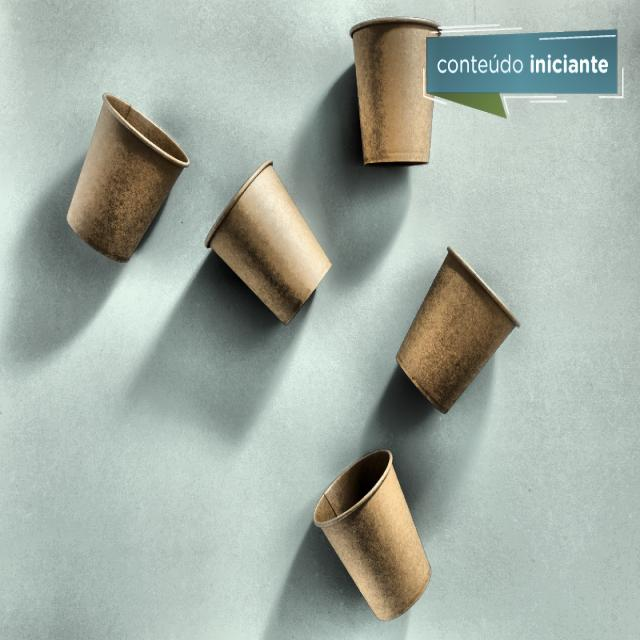Cup: (60, 81, 191, 289), (200, 152, 333, 332), (398, 237, 521, 429), (311, 447, 438, 627), (348, 11, 445, 170)
